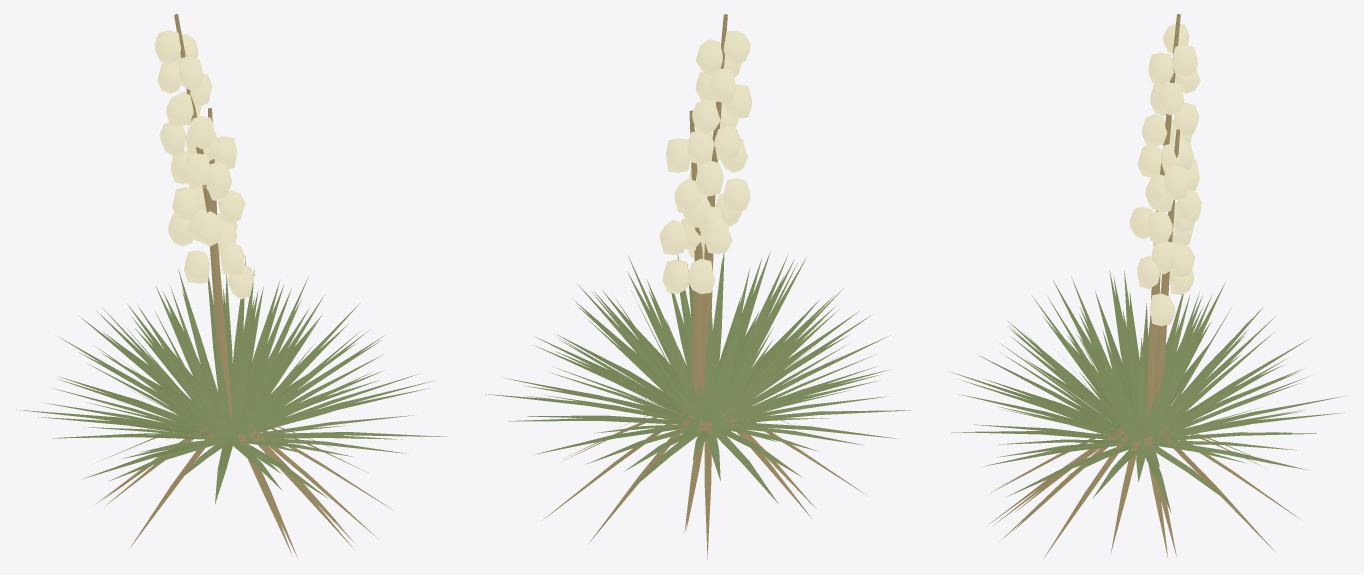
The model's file is Blender_SoapweedYucca_1.glb.
3 renders of one model, left to right at view 1: azimuth 30°, elevation 25°; view 2: azimuth 150°, elevation 25°; view 3: azimuth 270°, elevation 25°, orthographic. The views are drawn at different scales.
Parts seen in each view (by area): view 1: Blender_SoapweedYucca_1; view 2: Blender_SoapweedYucca_1; view 3: Blender_SoapweedYucca_1.
Part boxes in pixels (x1,y1,x2,y2): Blender_SoapweedYucca_1: [16, 14, 446, 557]; Blender_SoapweedYucca_1: [485, 14, 911, 559]; Blender_SoapweedYucca_1: [951, 14, 1346, 558].
Bounding box in the file's own units: 1.12 × 1.51 × 1.16.
